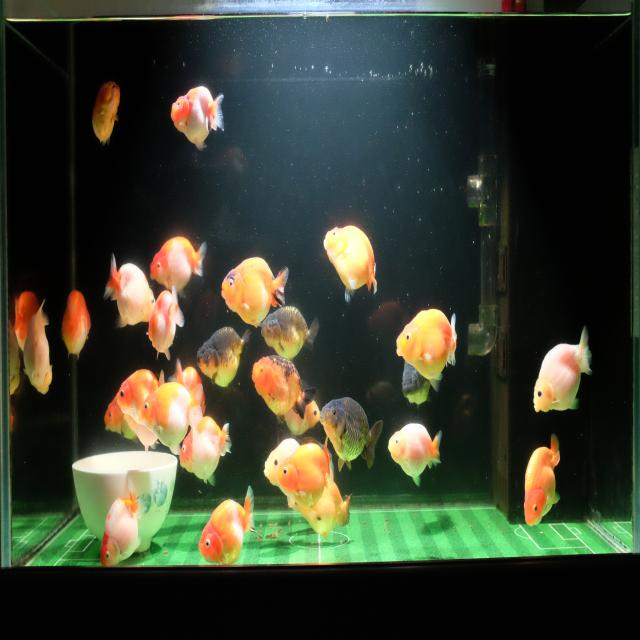Goldfish: (394, 306, 460, 393), (532, 325, 593, 417), (220, 253, 289, 330), (318, 396, 384, 474), (137, 379, 202, 457), (198, 483, 257, 565), (250, 352, 318, 423), (322, 223, 379, 305), (100, 472, 148, 567), (277, 433, 334, 511), (102, 251, 156, 332), (148, 232, 208, 302), (521, 431, 563, 530), (179, 412, 233, 488), (386, 420, 443, 489), (170, 84, 226, 154), (196, 324, 251, 392), (260, 304, 321, 360), (298, 479, 352, 540), (146, 282, 186, 362), (21, 298, 53, 398), (115, 368, 165, 427), (59, 288, 92, 362), (262, 435, 302, 490), (173, 352, 206, 418), (91, 77, 121, 148), (283, 387, 320, 440), (12, 288, 40, 355), (401, 355, 432, 409), (102, 388, 134, 438)
